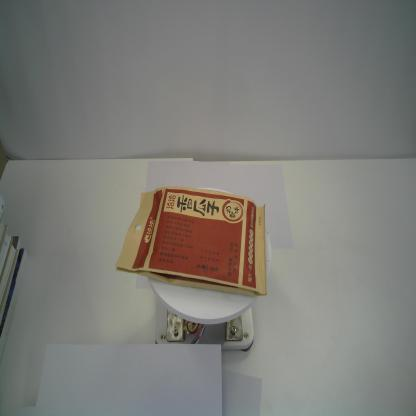Dried Food: (115, 186, 267, 297)
